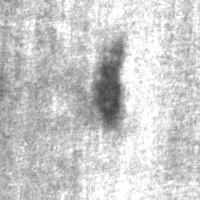patches: (87, 33, 127, 128)
